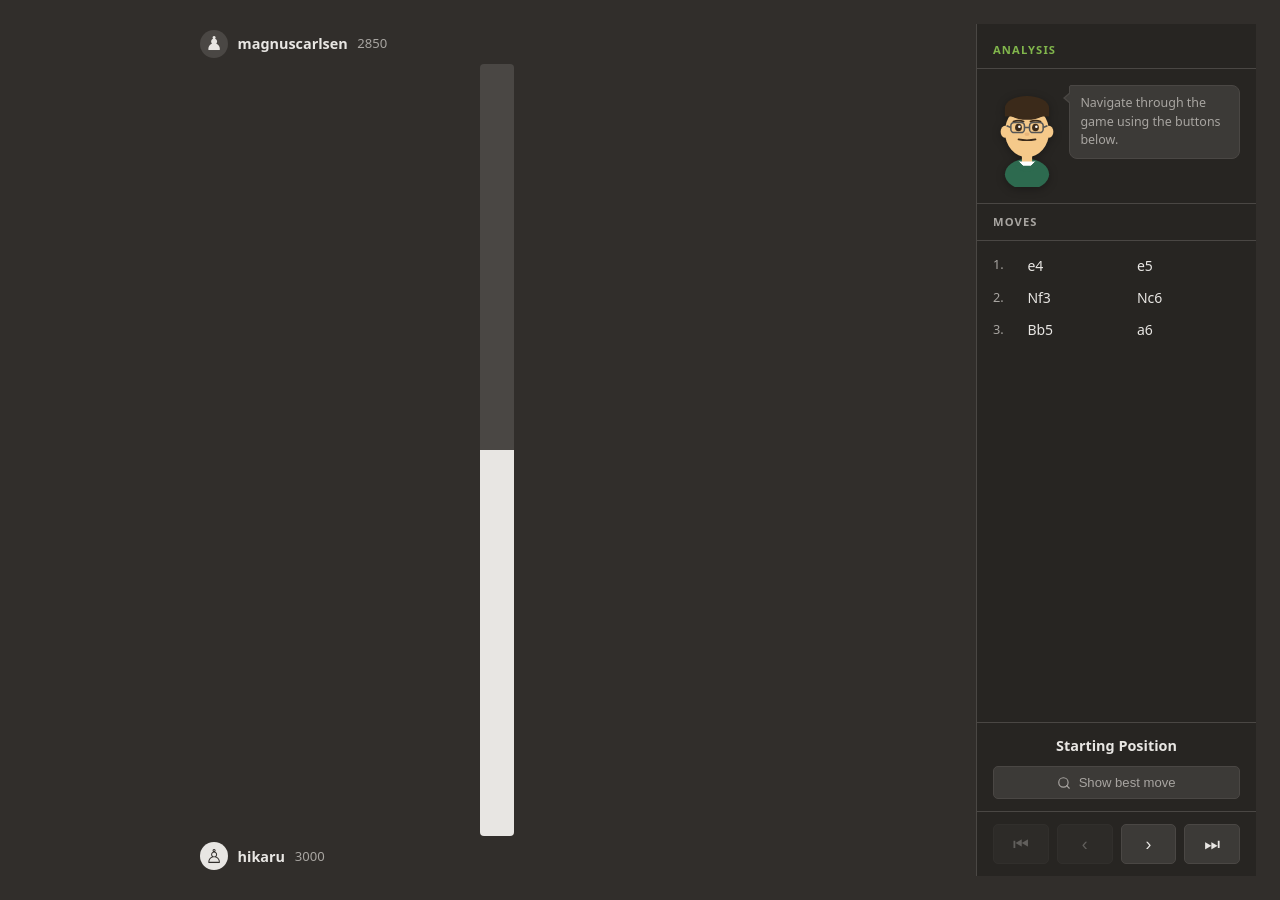
Scenario: ReviewPage navigation › goes back when Previous is clicked after advancing
The image size is (1280, 900).
Click the button titled "Next". click: click(1148, 844)
box: [1120,824,1176,864]
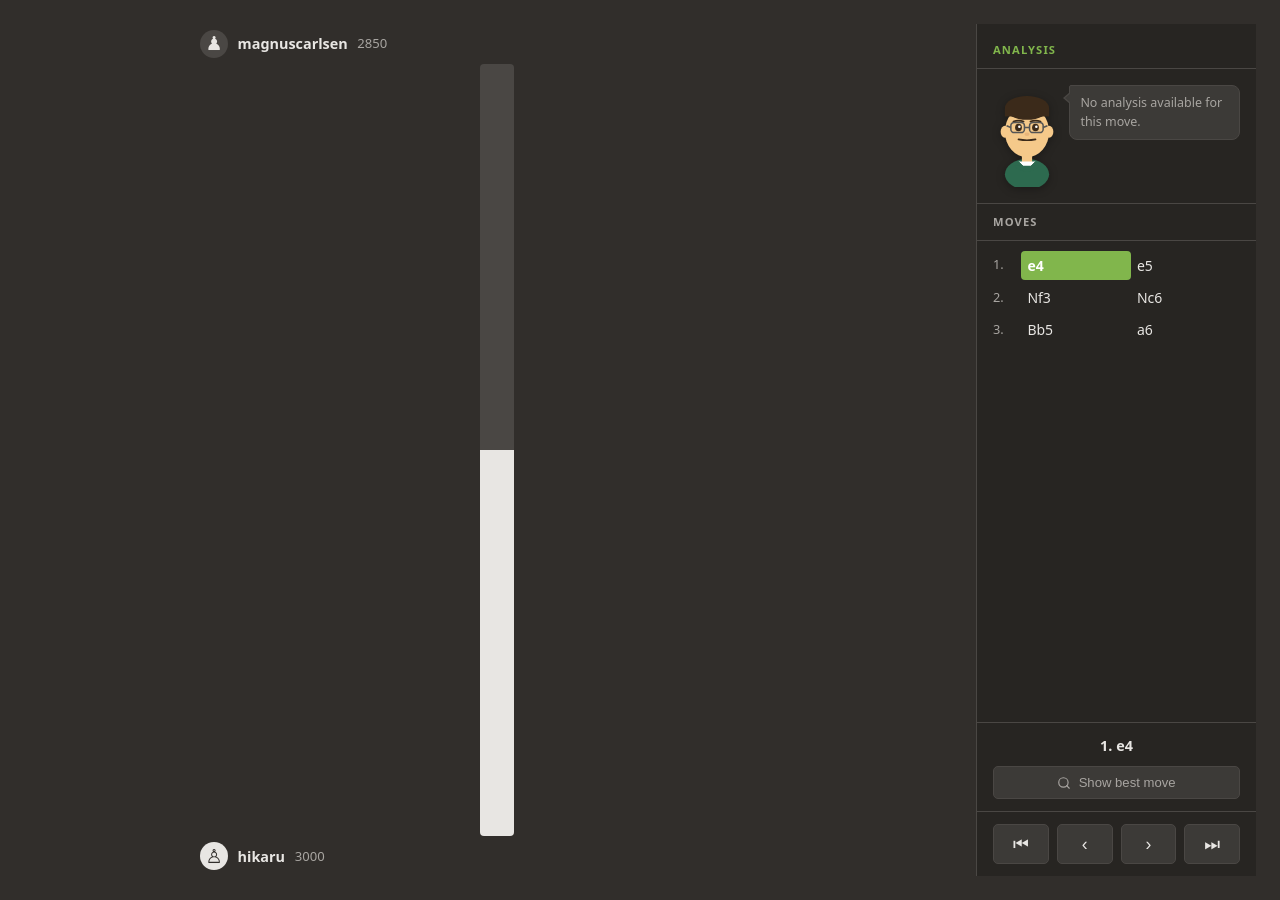
Click the button titled "Previous". click: click(1085, 844)
box: [1057,824,1113,864]
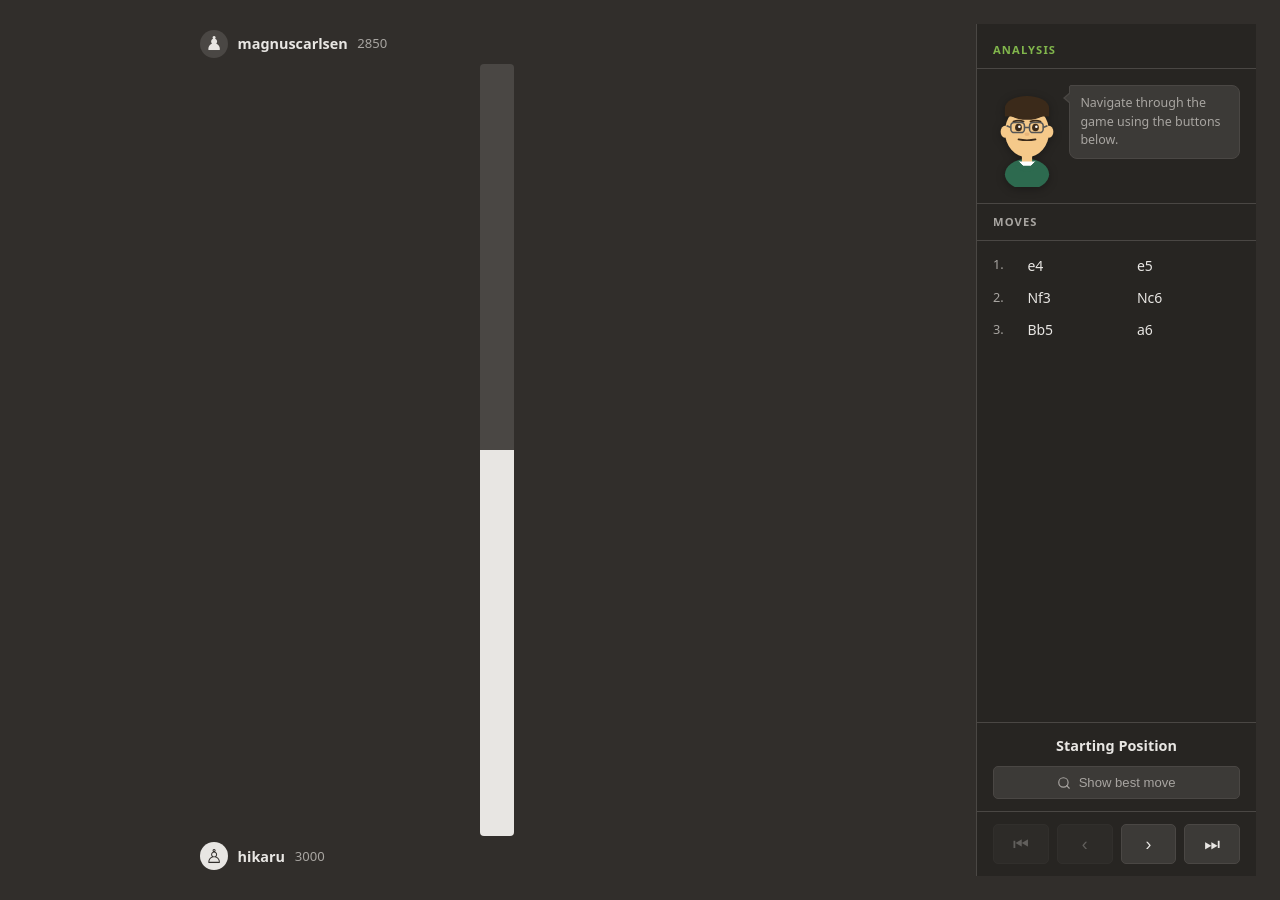
Now the text "Starting Position" is shown, box [1056,736,1177,755]
